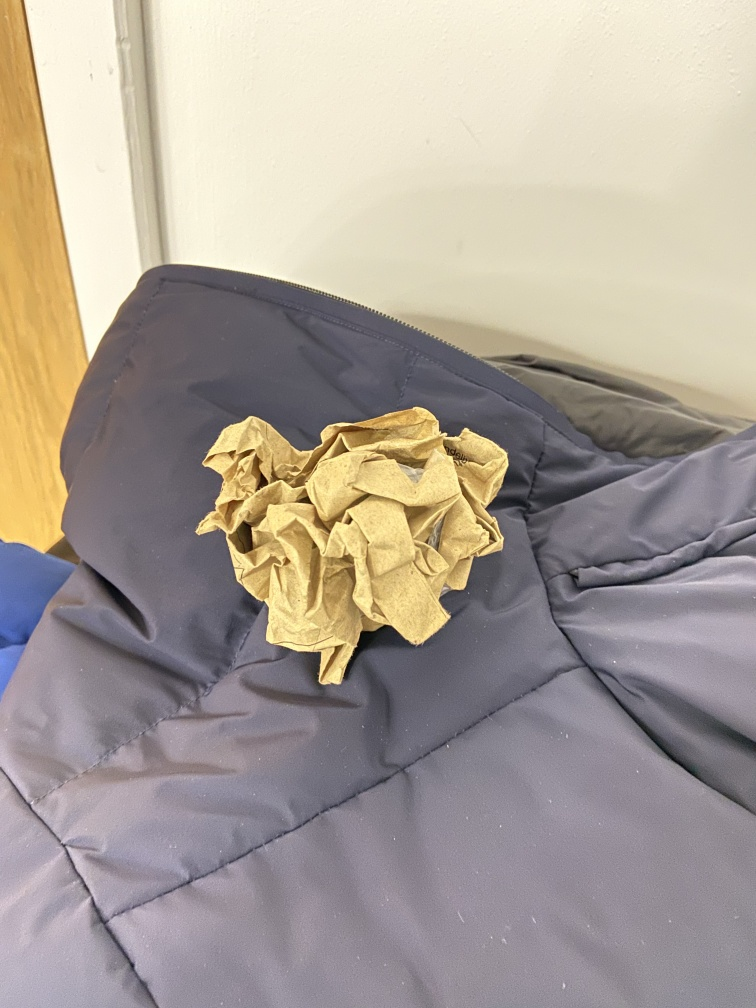paper_brown: (194, 402, 517, 688)
